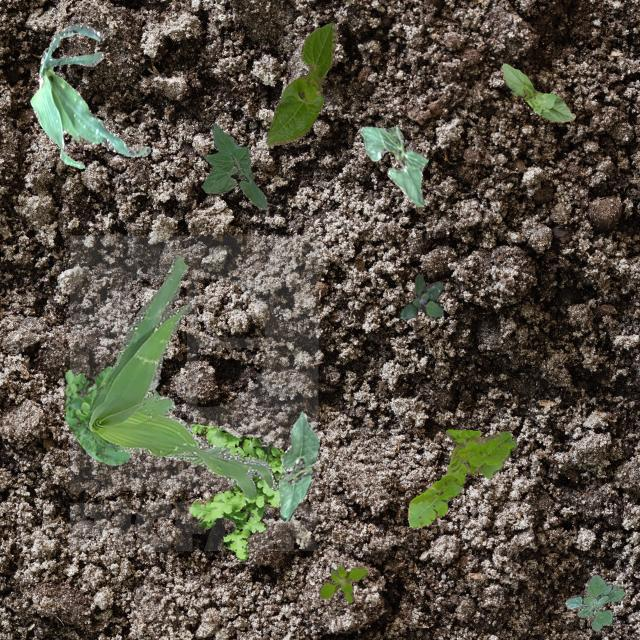crop: (29, 24, 150, 168), (264, 22, 336, 144), (358, 124, 428, 206), (202, 122, 266, 208), (278, 410, 318, 520), (500, 62, 574, 121)
weed: (85, 252, 276, 496), (187, 424, 287, 560), (406, 428, 516, 526), (62, 366, 130, 464), (564, 574, 624, 630), (400, 272, 442, 318), (318, 564, 366, 602)
